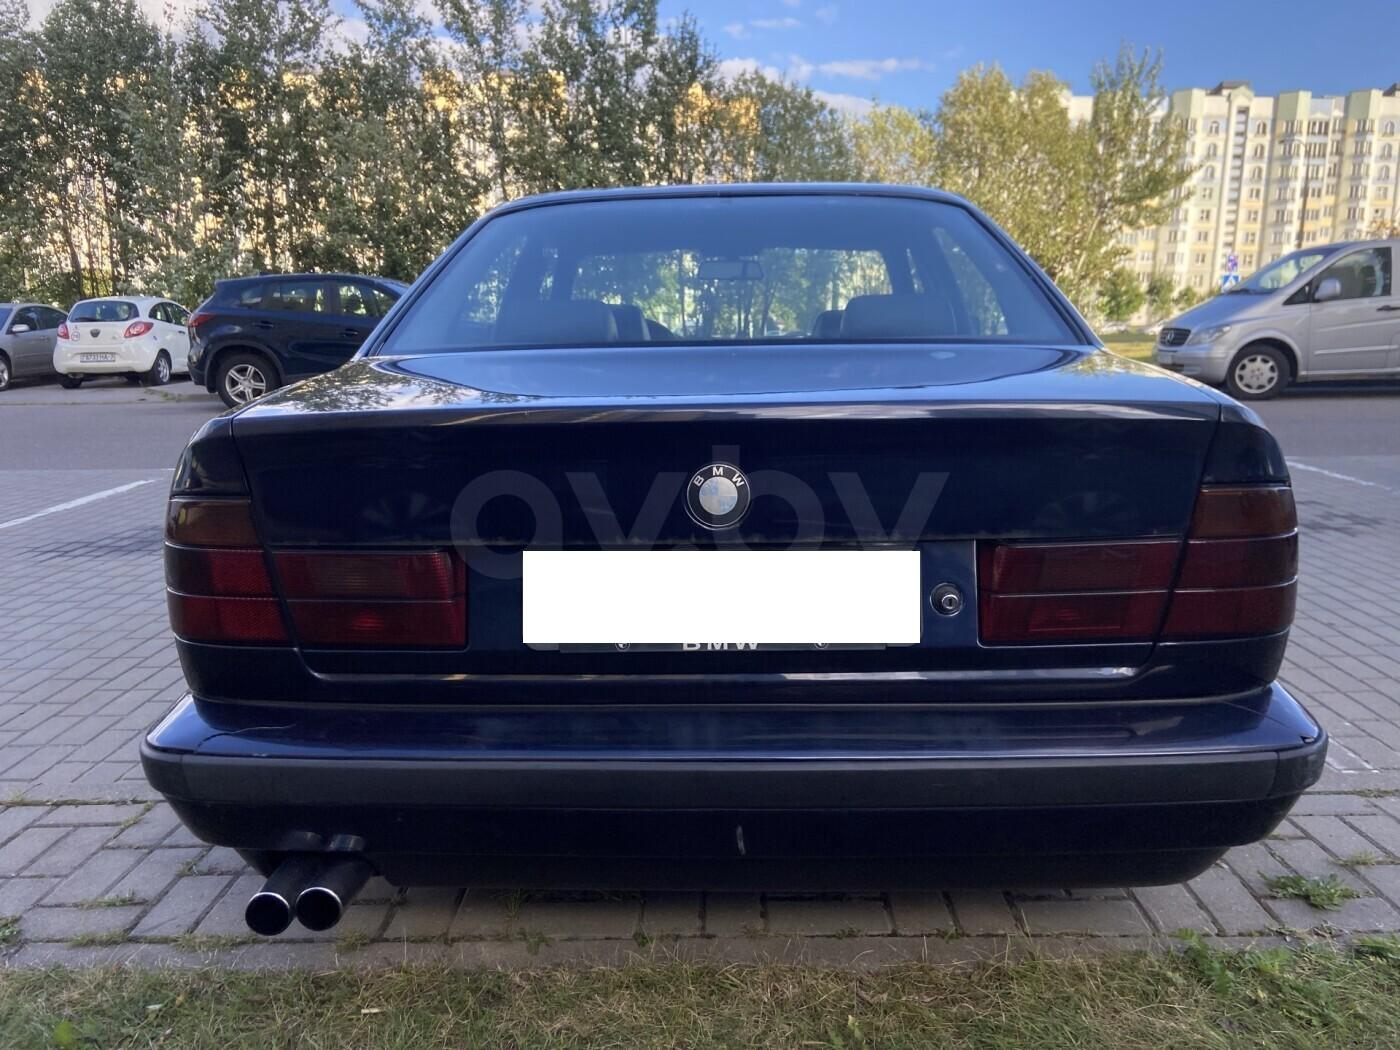BMW_E34_1994_4200: (127, 179, 1332, 940)
